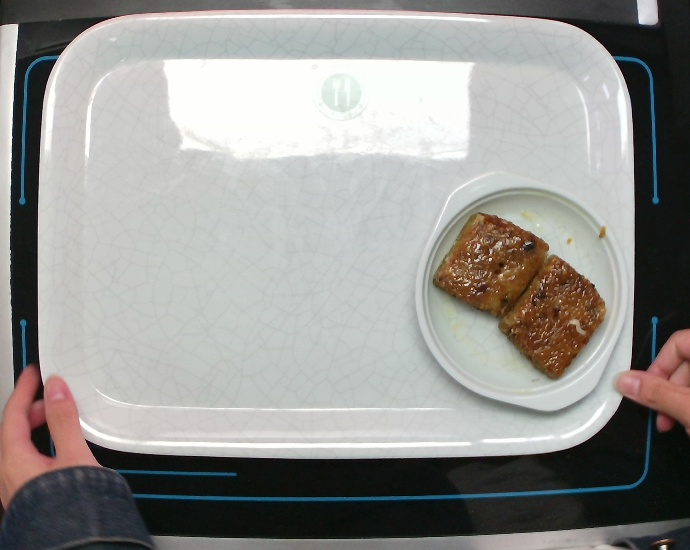JYsf-Shuang_Er_Pan: (413, 168, 627, 415)
